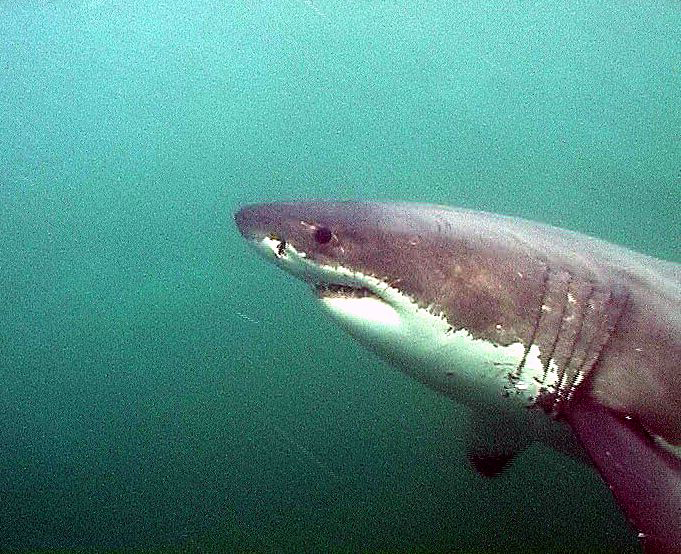Carcharodon_carcharias: (213, 168, 681, 497)
